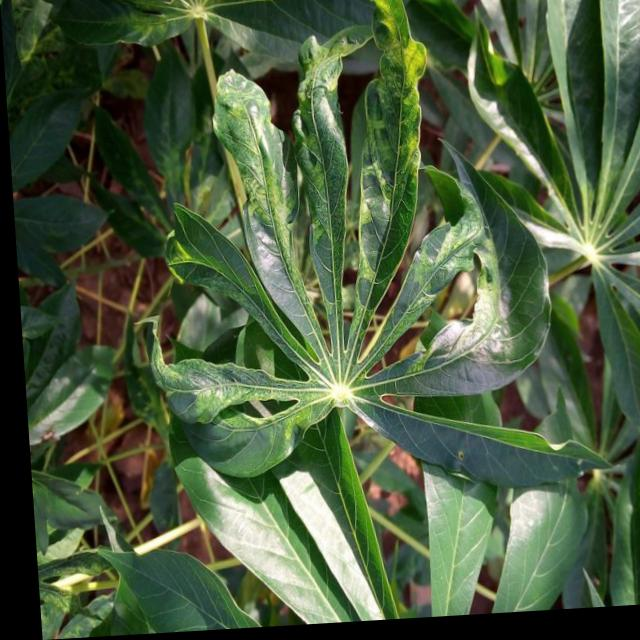Mosaico: (170, 23, 524, 433)
